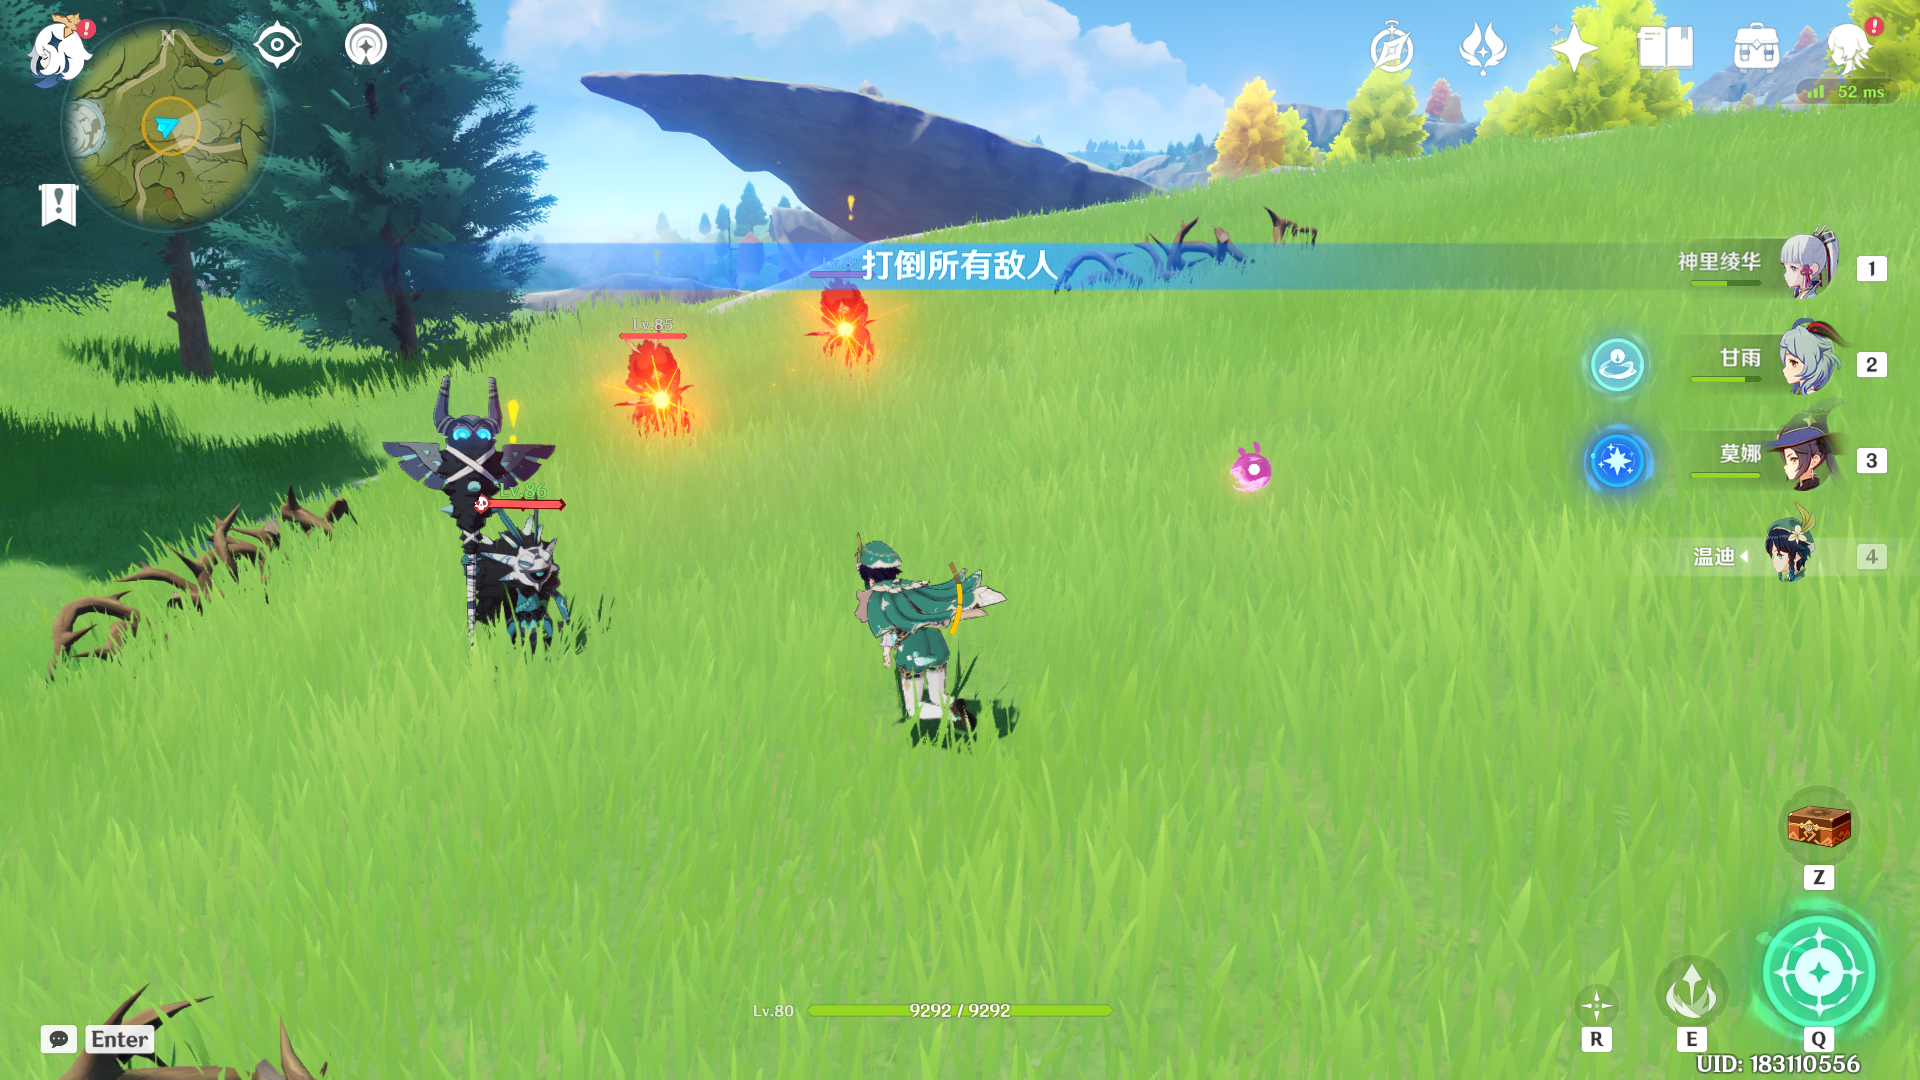character: (793, 535, 1072, 831)
hili: (413, 385, 618, 673)
